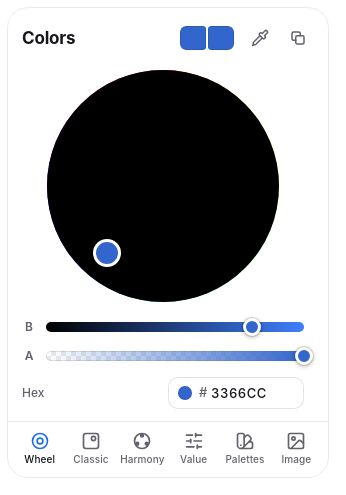
Test: mode options reach their mode › forwards imageOptions into the image mode
Click the tab "Image" at (296, 448), box [271,425,322,471]
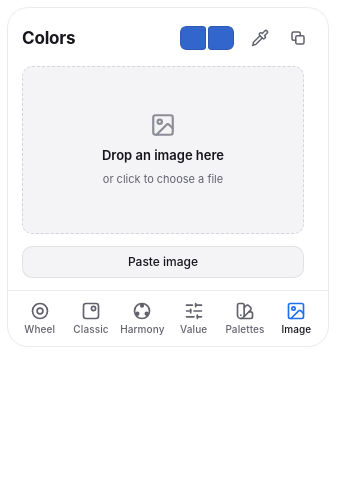
Expected: the file field labelled "Drop an image here or click to choose a file" is shown, [22,66,304,234]
